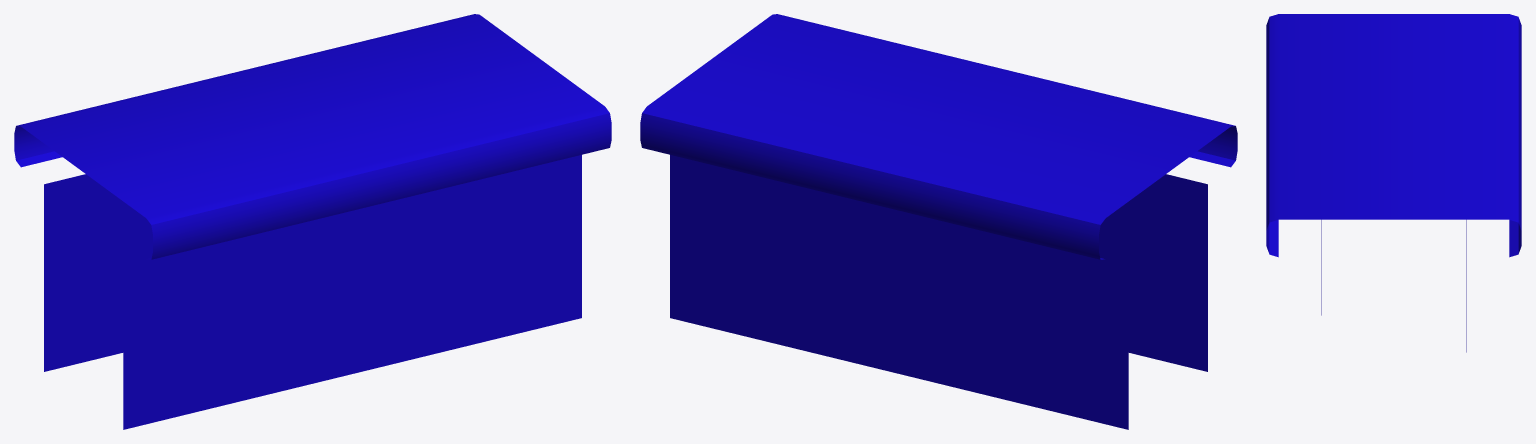
File: SM_Bar.fbx
The picture shows the model from 3 angles, left to right: view 1: azimuth 30°, elevation 25°; view 2: azimuth 150°, elevation 25°; view 3: azimuth 270°, elevation 25°; orthographic projection. The views are drawn at different scales.
Parts seen in each view (by area): view 1: SM_Bar; view 2: SM_Bar; view 3: SM_Bar.
Boxes of the visible parts, x1=… form: SM_Bar: x1=14, y1=14, x2=611, y2=429; SM_Bar: x1=640, y1=14, x2=1237, y2=429; SM_Bar: x1=1266, y1=14, x2=1521, y2=352.
Bounding box in the file's own units: 210 × 100 × 110.
